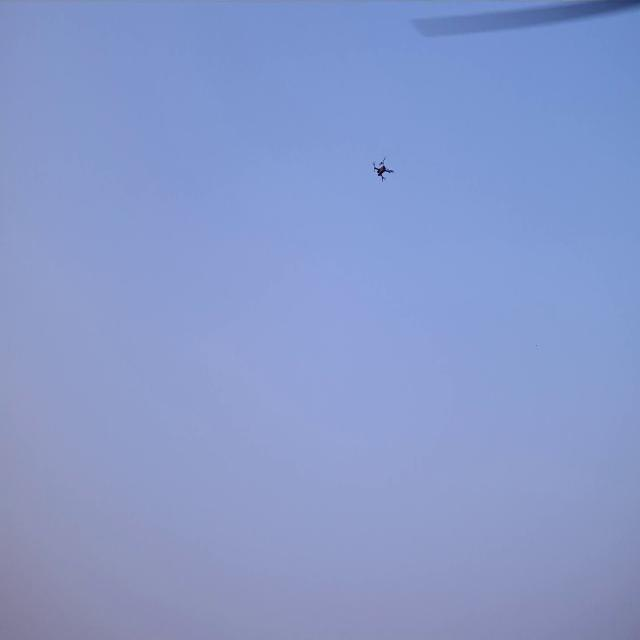UAV: (374, 161, 392, 179)
